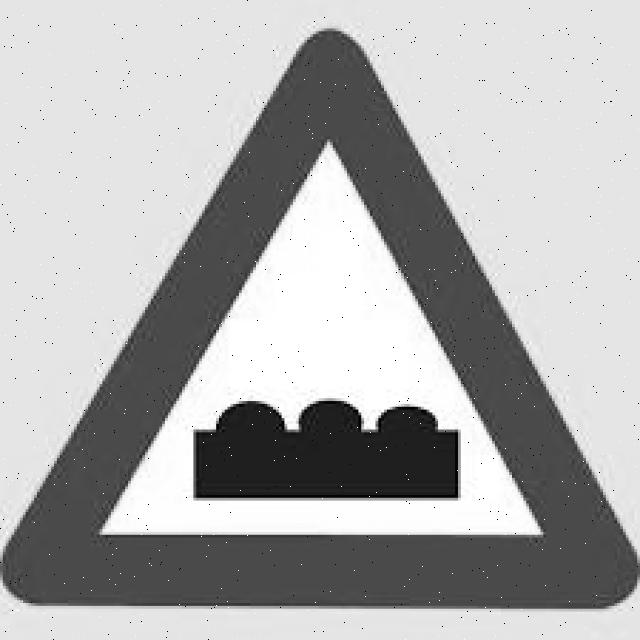Rumble_strip: (10, 23, 639, 605)
